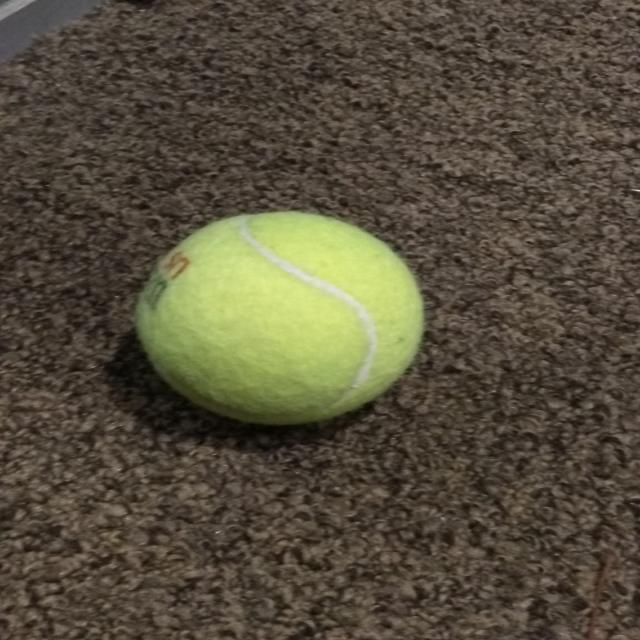Tennis-Ball: (130, 209, 427, 426)
